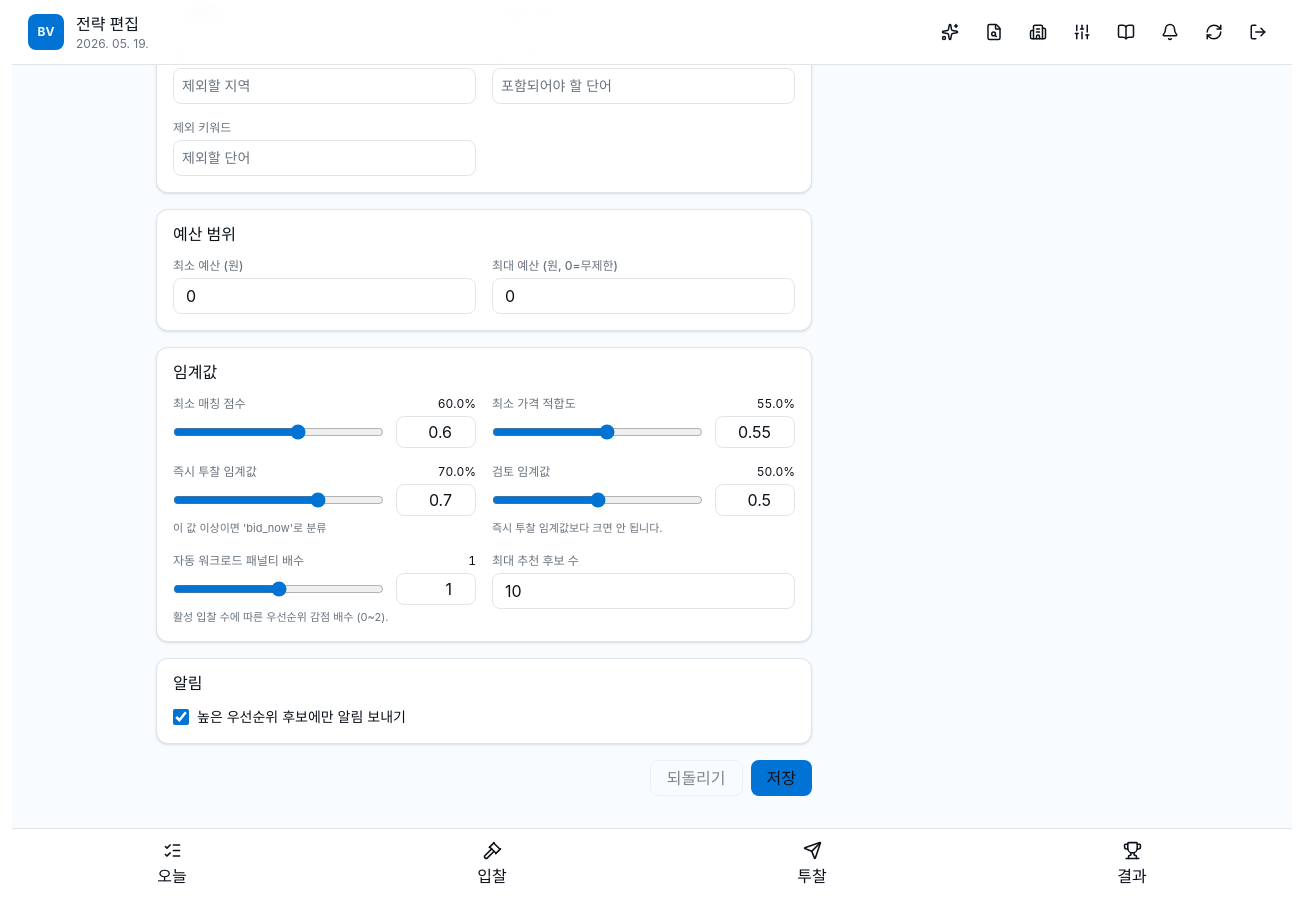
Test: StrategyEditor › 저장 후 서버가 running 을 보고하면 갱신 중 표시가 뜨고 이전 스냅샷은 유지된다
(page scrolled)
Expected: the number field named "최소 매칭 점수" holds "0.6", [396, 416, 476, 448]
Click the button "저장": (781, 778) [750, 760, 812, 796]
(page scrolled)
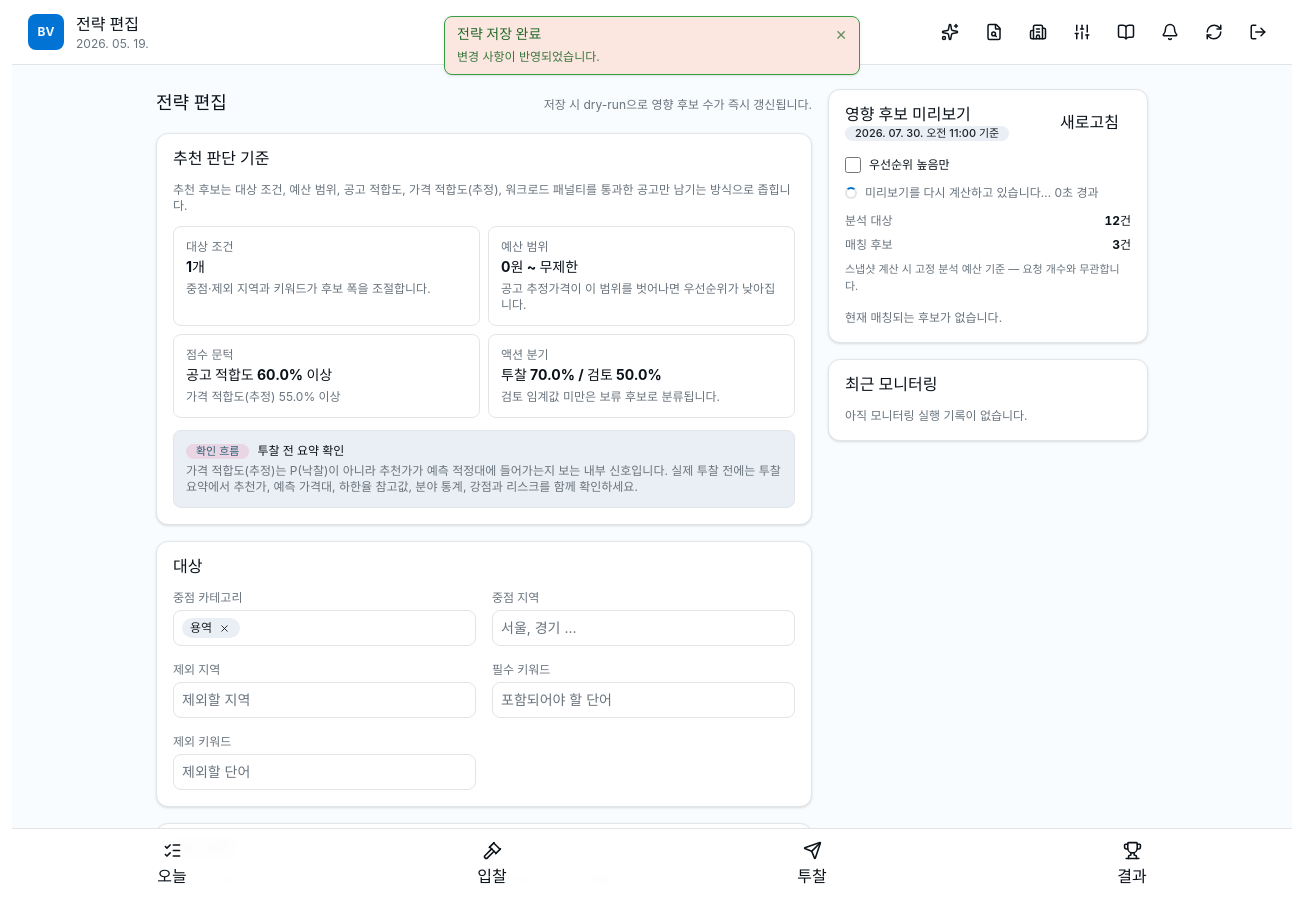
Expected: the text "3건" is shown, [1112, 237, 1131, 253]
Expected: the message with test id "snapshot-progress" shows "다시 계산하고 있습니다", [865, 185, 1098, 200]
